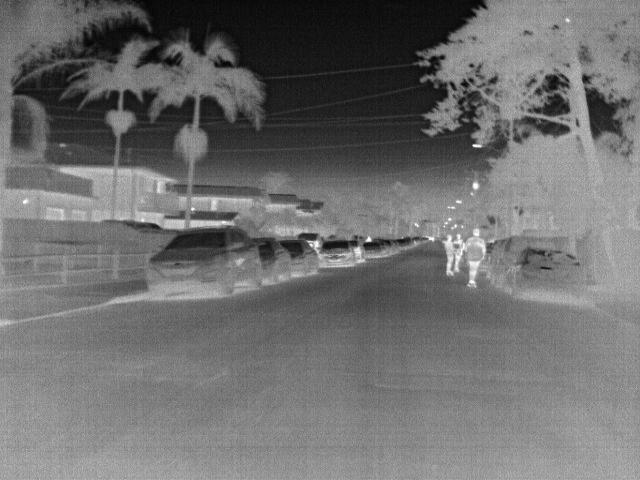car: (142, 227, 264, 301), (500, 246, 584, 304), (493, 234, 570, 289), (255, 237, 292, 281), (277, 240, 321, 277), (318, 240, 357, 267), (297, 231, 324, 252), (357, 243, 383, 259), (372, 238, 390, 256), (394, 238, 410, 250)
person: (462, 226, 486, 283), (451, 229, 466, 272), (443, 233, 456, 281)
